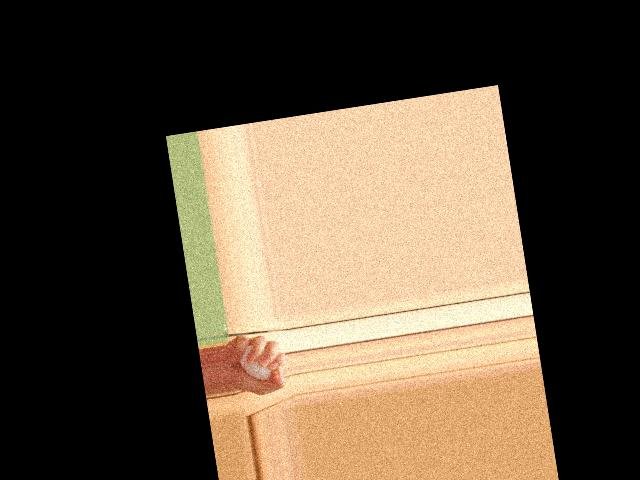egg: (237, 342, 272, 383)
